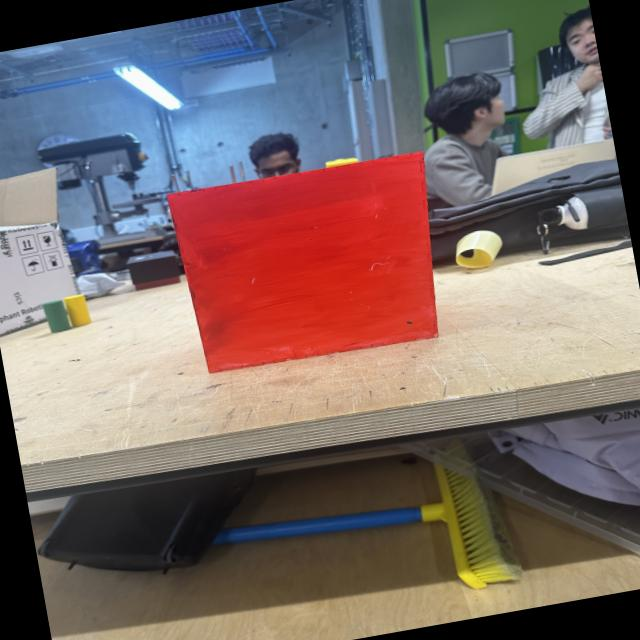red_bin: (163, 147, 460, 381)
